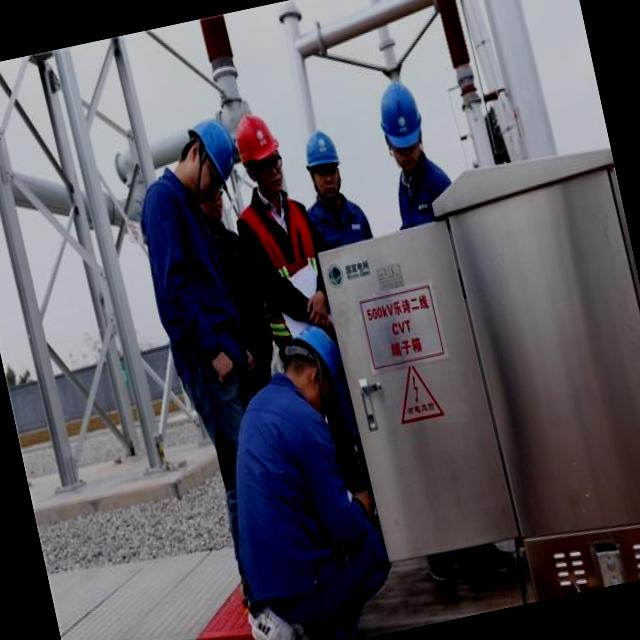helmet: (291, 318, 353, 401), (368, 77, 430, 156), (228, 108, 287, 182), (189, 120, 242, 192), (301, 124, 344, 173)
